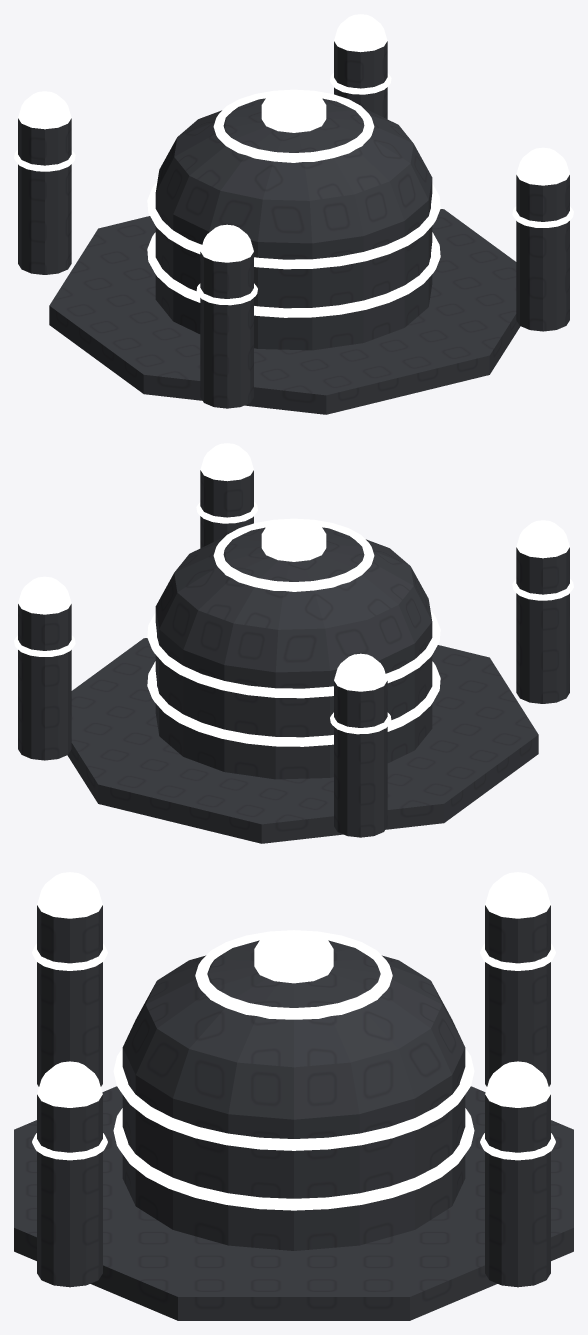
File: Plante_Noyau_Nova.glb
The picture shows the model from 3 angles, top to bottom: view 1: azimuth 30°, elevation 25°; view 2: azimuth 150°, elevation 25°; view 3: azimuth 270°, elevation 25°; orthographic projection. The views are drawn at different scales.
Parts seen in each view (by area): view 1: Plante_Noyau_Nova; view 2: Plante_Noyau_Nova; view 3: Plante_Noyau_Nova.
Part boxes in pixels (x1,y1,x2,y2): Plante_Noyau_Nova: [14, 14, 573, 414]; Plante_Noyau_Nova: [14, 443, 573, 843]; Plante_Noyau_Nova: [14, 872, 573, 1320].
Size of the model in its own units: 8.5 by 4.25 by 8.5.
2 materials, 1 textured.
